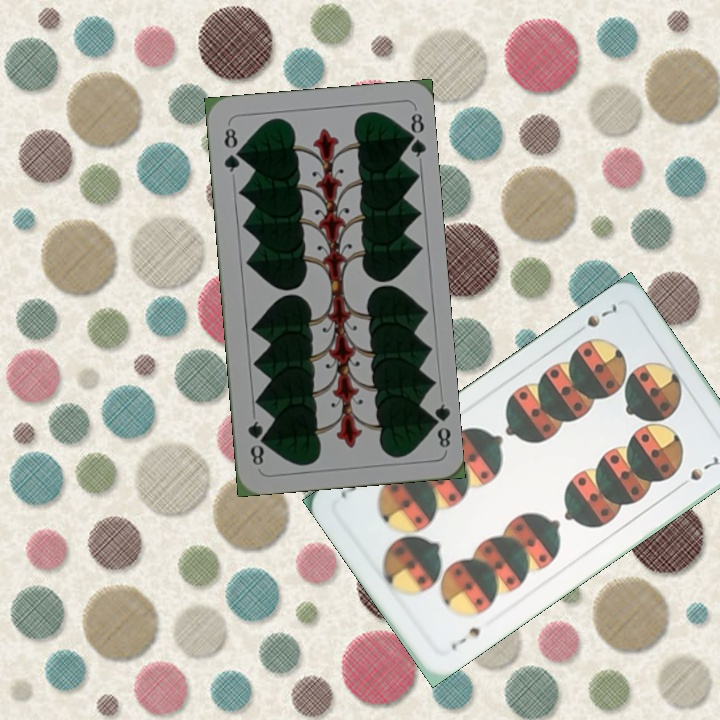G8: (424, 400, 453, 450), (220, 124, 243, 175)
S7: (582, 299, 620, 331), (446, 623, 483, 653)
